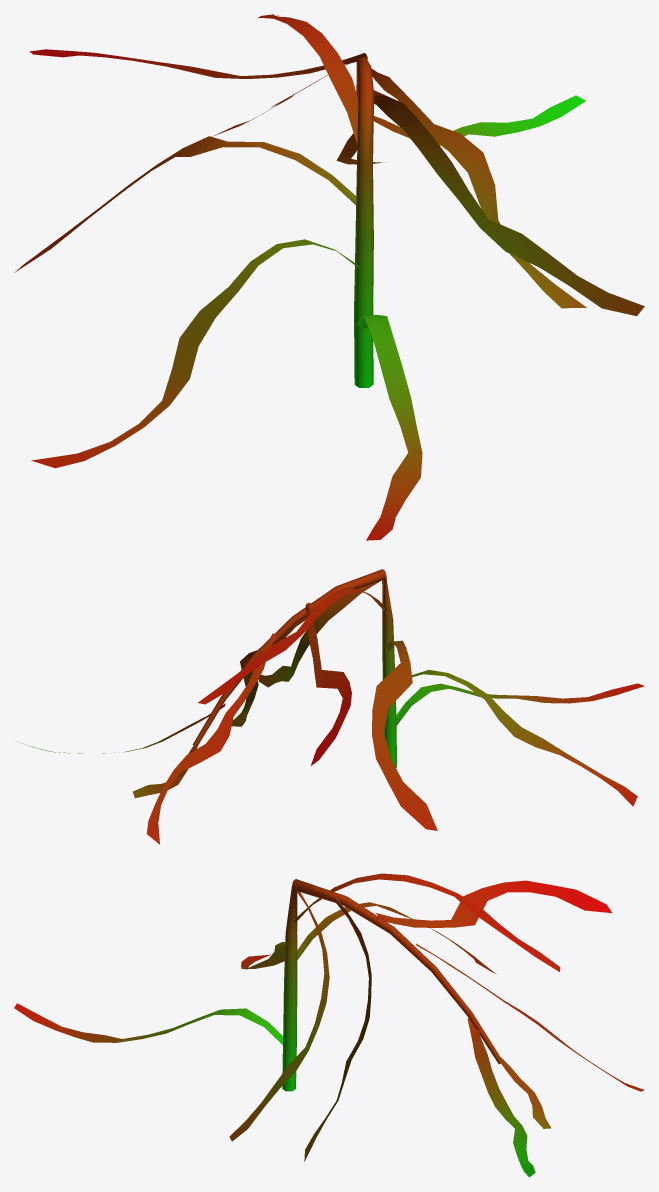
Rendered from tjugaikia_Var7_LOD0.fbx.
3 views of the same model, one above another, from view 1: azimuth 30°, elevation 25°; view 2: azimuth 150°, elevation 25°; view 3: azimuth 270°, elevation 25° (orthographic). The views are drawn at different scales.
Visible parts, largest first — view 1: _03c5_Var7_LOD0; view 2: _03c5_Var7_LOD0; view 3: _03c5_Var7_LOD0.
Boxes of the visible parts, <box> form: _03c5_Var7_LOD0: <box>14,14,644,540</box>; _03c5_Var7_LOD0: <box>17,569,644,844</box>; _03c5_Var7_LOD0: <box>14,873,644,1177</box>.
Bounding box in the file's own units: 66.72 × 26.09 × 68.86.
